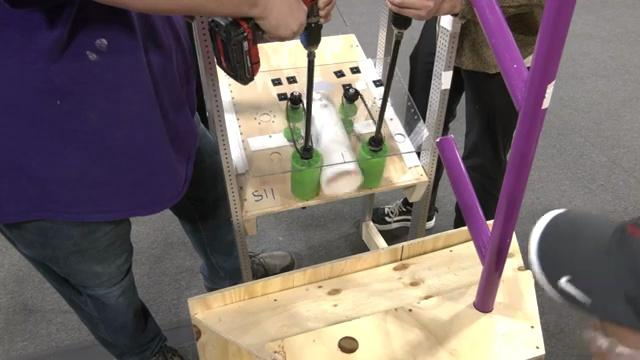CORAL: (305, 90, 364, 196)
